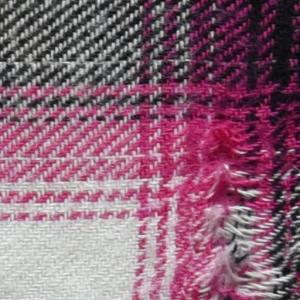Damage: (180, 74, 290, 300)
